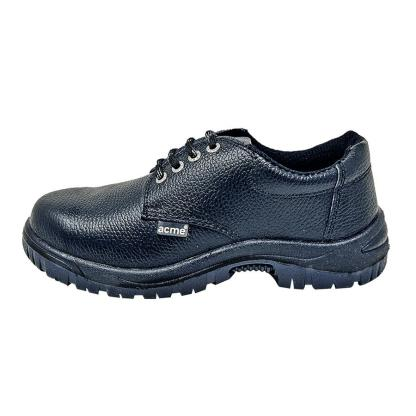bota: (18, 122, 394, 302)
